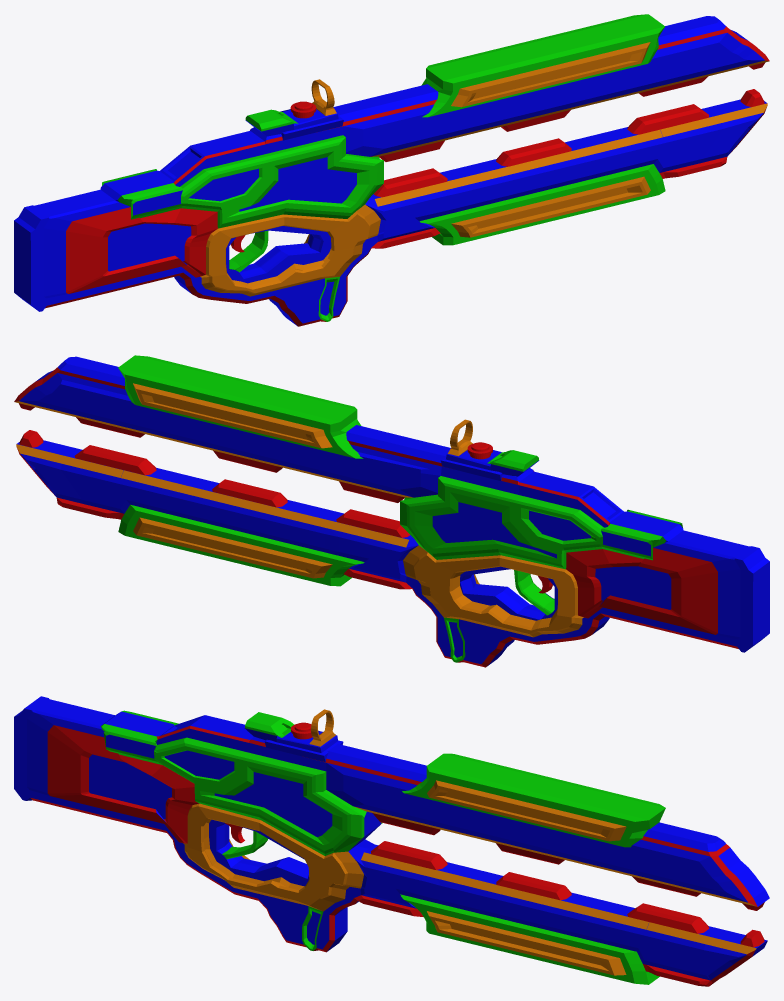
File: RAILGUN.fbx
3 renders of one model, top to bottom at view 1: azimuth 30°, elevation 25°; view 2: azimuth 150°, elevation 25°; view 3: azimuth 330°, elevation 25°, orthographic.
Visible parts, largest first — view 1: Plane (×4); view 2: Plane (×4); view 3: Plane (×4).
Boxes of the visible parts, x1,y1,x2,y2 form: Plane (×4): [14, 14, 769, 326]; Plane (×4): [14, 355, 769, 667]; Plane (×4): [14, 696, 769, 986].
Bounding box in the file's own units: 1944 × 581 × 152.
